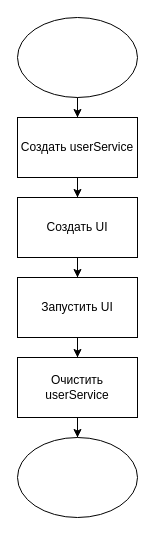
Image size: 155x535. Some labels were removed from this diagram. Here are the shapes that lost their labels. From the top down, the centre of each, then its label:
At point (77, 57): "Начало main".
At point (77, 477): "Конец".
